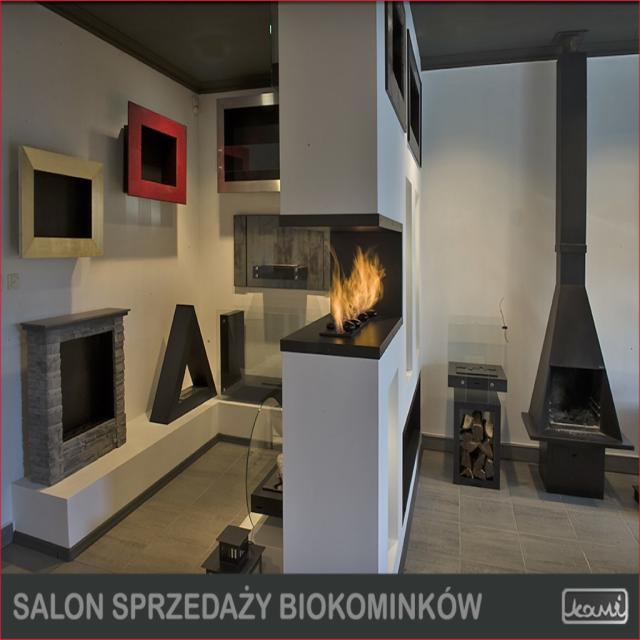Fire: (327, 245, 388, 332)
